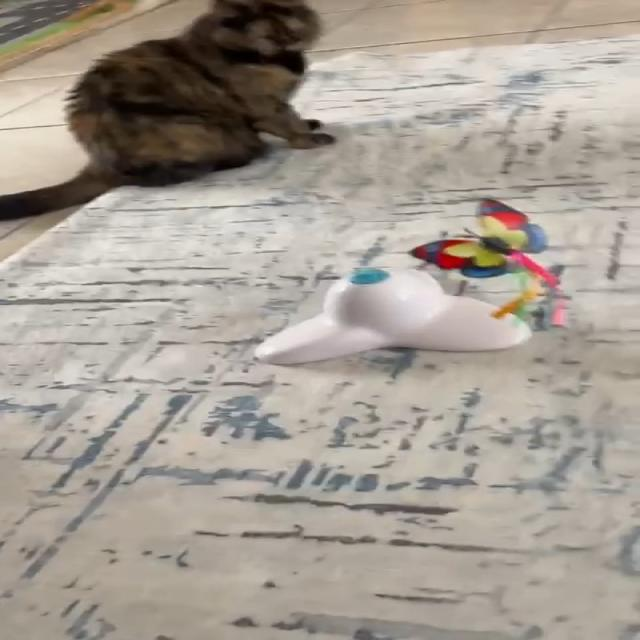authorized: (0, 0, 336, 221)
